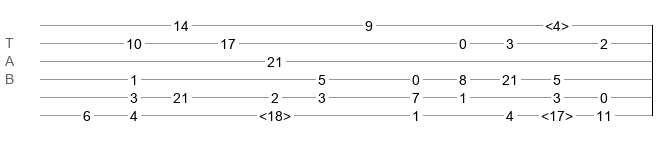0: (412, 72, 420, 82), (459, 36, 467, 46), (600, 90, 608, 100)
1: (130, 72, 138, 82), (412, 108, 420, 118), (459, 90, 467, 100)
10: (126, 36, 142, 46)
11: (596, 108, 612, 118)
14: (173, 18, 189, 28)
17: (220, 36, 236, 46)
2: (271, 90, 279, 100), (600, 36, 608, 46)
21: (173, 90, 189, 100), (267, 54, 283, 64), (502, 72, 518, 82)
3: (130, 90, 138, 100), (318, 90, 326, 100), (506, 36, 514, 46), (553, 90, 561, 100)
4: (130, 108, 138, 118), (506, 108, 514, 118)
5: (318, 72, 326, 82), (553, 72, 561, 82)
6: (83, 108, 91, 118)
7: (412, 90, 420, 100)
8: (459, 72, 467, 82)
9: (365, 18, 373, 28)
harmonic: (259, 108, 291, 118), (541, 108, 573, 118), (545, 18, 569, 28)
